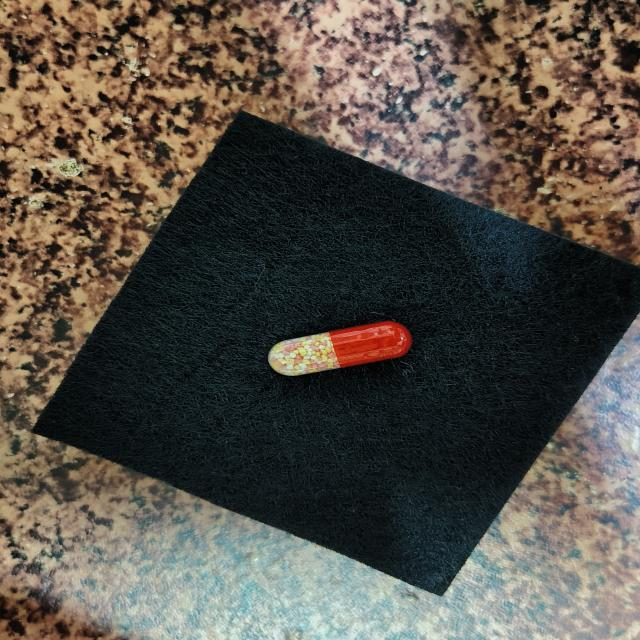Intact Capsule: (268, 321, 412, 376)
